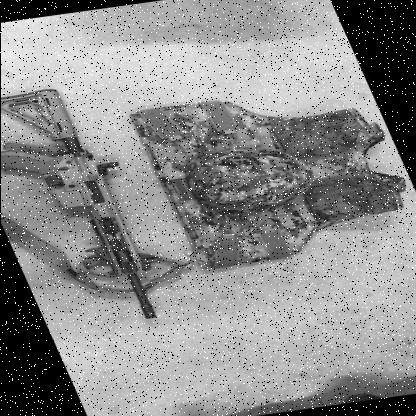rifle: (0, 78, 176, 330)
